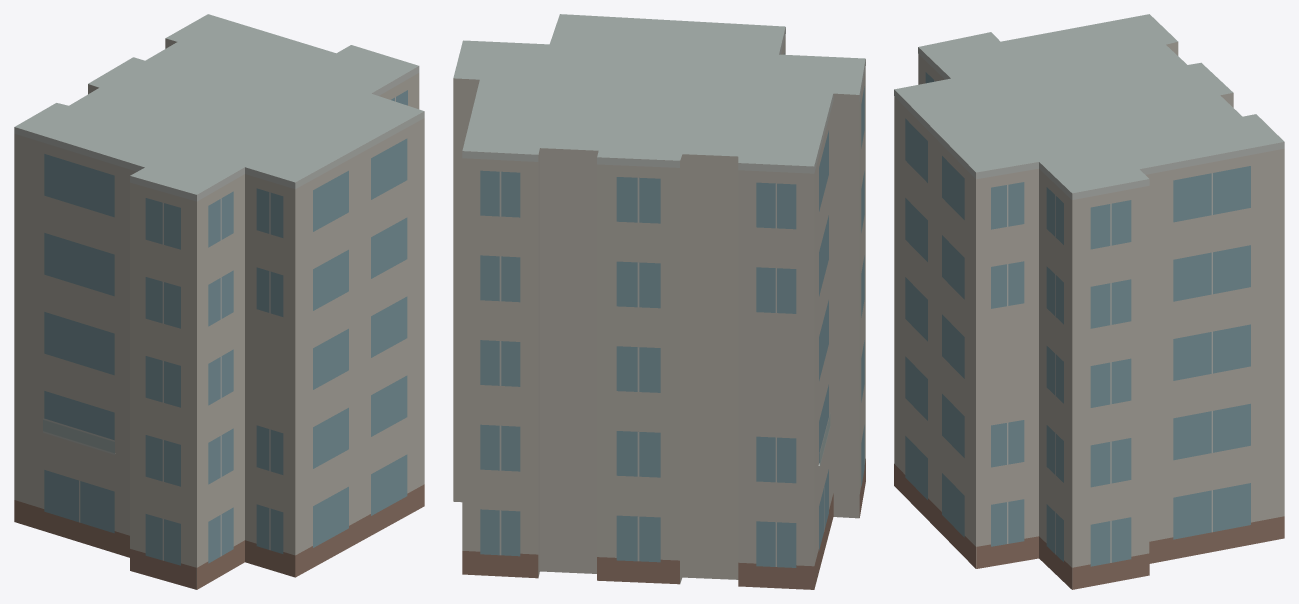
File: survey-upis-32700645.glb
3 views of the same model, side by side, from view 1: azimuth 30°, elevation 25°; view 2: azimuth 150°, elevation 25°; view 3: azimuth 270°, elevation 25° (orthographic). The views are drawn at different scales.
Parts seen in each view (by area): view 1: survey-upis-32700645.tmp; view 2: survey-upis-32700645.tmp; view 3: survey-upis-32700645.tmp.
Boxes of the visible parts, box(x1,y1,x2,y2) form: survey-upis-32700645.tmp: box(14, 14, 424, 589); survey-upis-32700645.tmp: box(453, 14, 865, 589); survey-upis-32700645.tmp: box(894, 14, 1284, 589).
Size of the model in its own units: 13.89 by 14.3 by 12.77.
